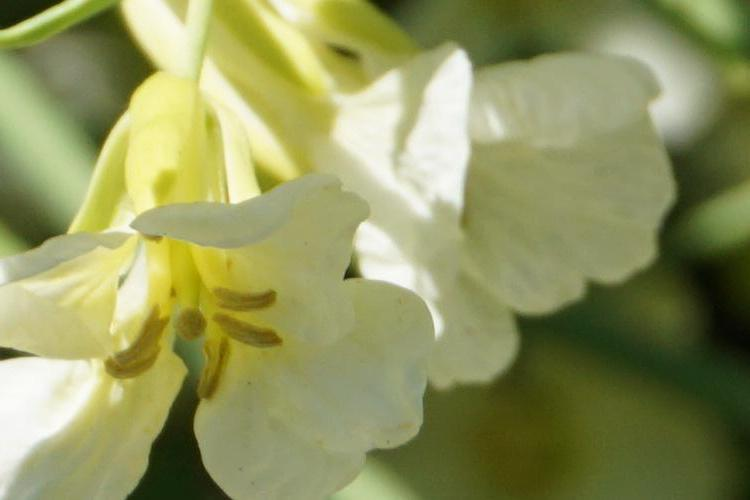white: (4, 131, 444, 495), (313, 51, 692, 314)
